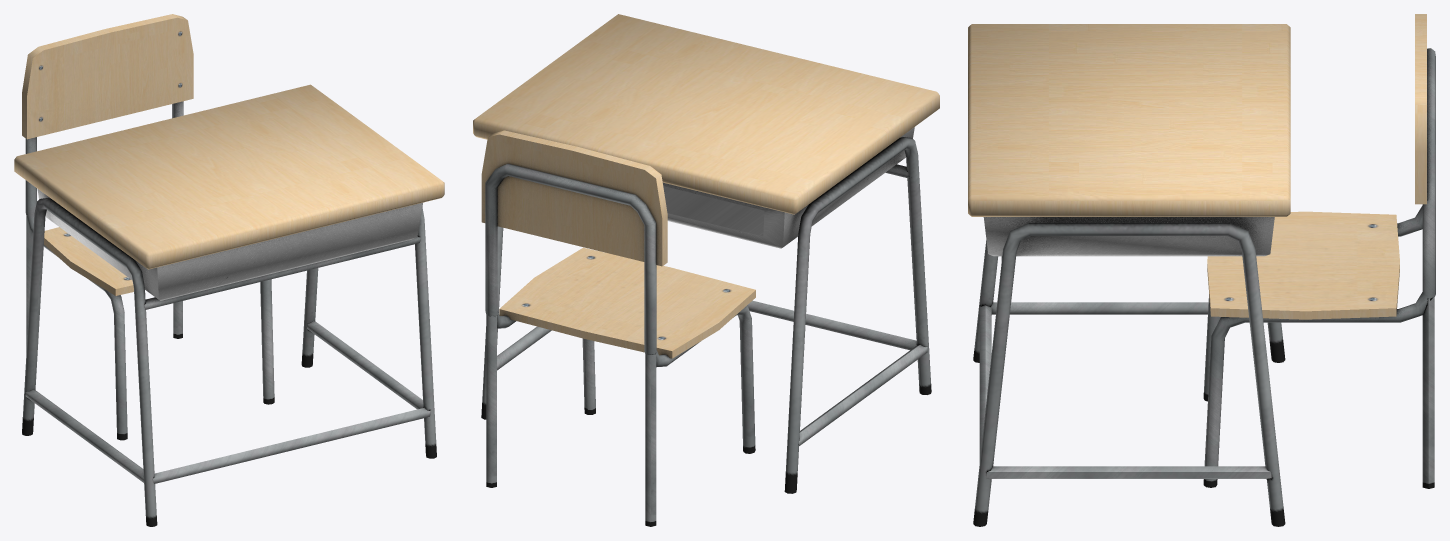
File: prop_sch_tablechair.fbx
3 renders of one model, left to right at view 1: azimuth 30°, elevation 25°; view 2: azimuth 150°, elevation 25°; view 3: azimuth 270°, elevation 25°, orthographic. The views are drawn at different scales.
Parts seen in each view (by area): view 1: prop_sch_table, prop_sch_chair; view 2: prop_sch_table, prop_sch_chair; view 3: prop_sch_table, prop_sch_chair.
Boxes of the visible parts, x1,y1,x2,y2 form: prop_sch_table: (14,84,444,526); prop_sch_chair: (22,14,274,440); prop_sch_table: (473,14,939,493); prop_sch_chair: (481,130,755,526); prop_sch_table: (968,24,1290,526); prop_sch_chair: (1203,14,1435,488).
Size of the model in its own units: 90 by 93.79 by 102.
